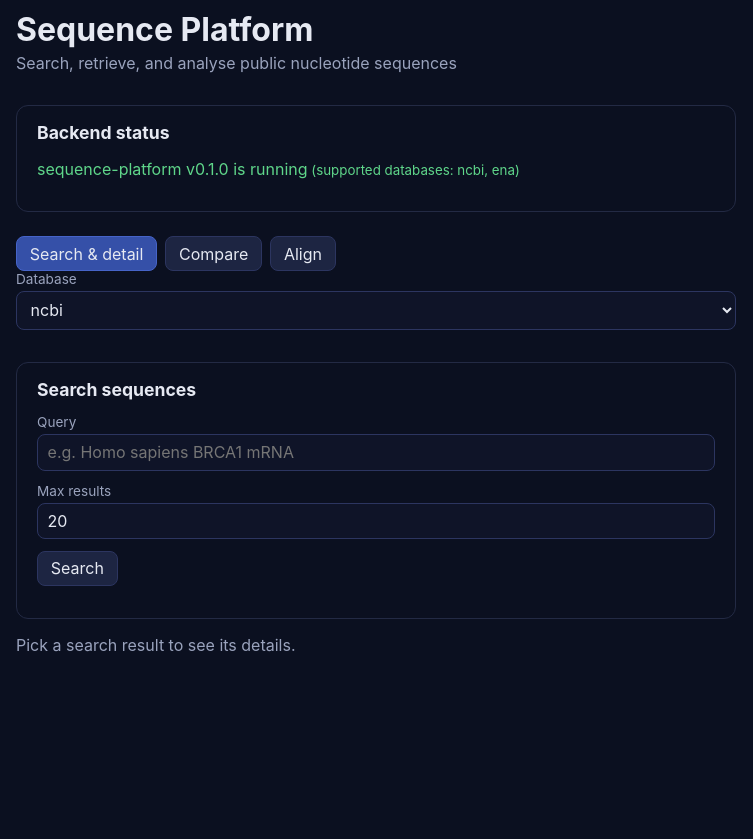
Test case: App › switches to the alignment panel
This screenshot has width=753, height=839.
Click the button "Align": {"x": 303, "y": 254} [270,236,336,271]
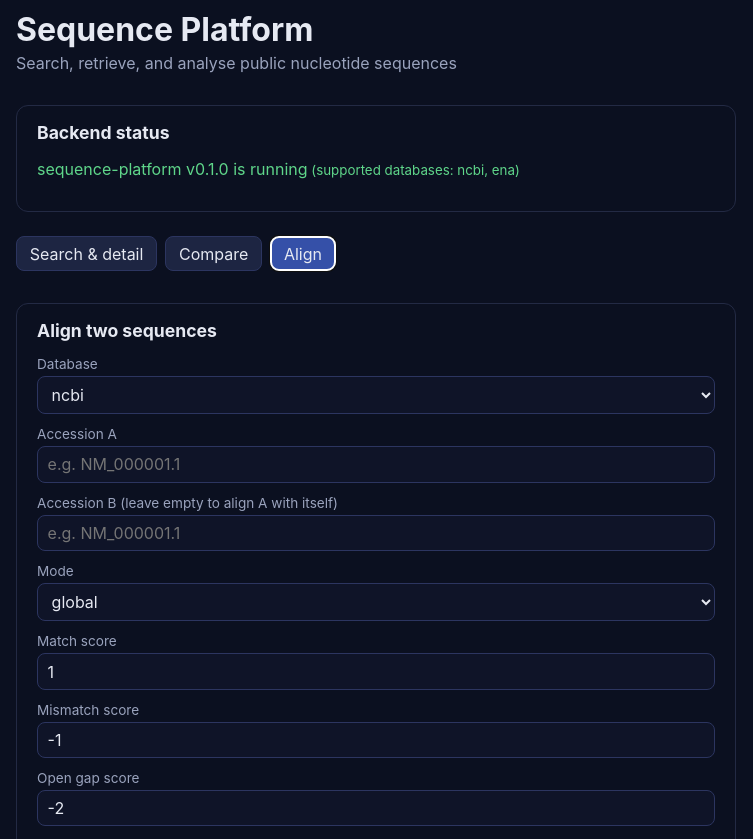
Expected: the dropdown labelled "Mode" is shown, [37,583,715,621]
Expected: the dropdown with test id "alignment-database-select" is shown, [37,376,715,414]
